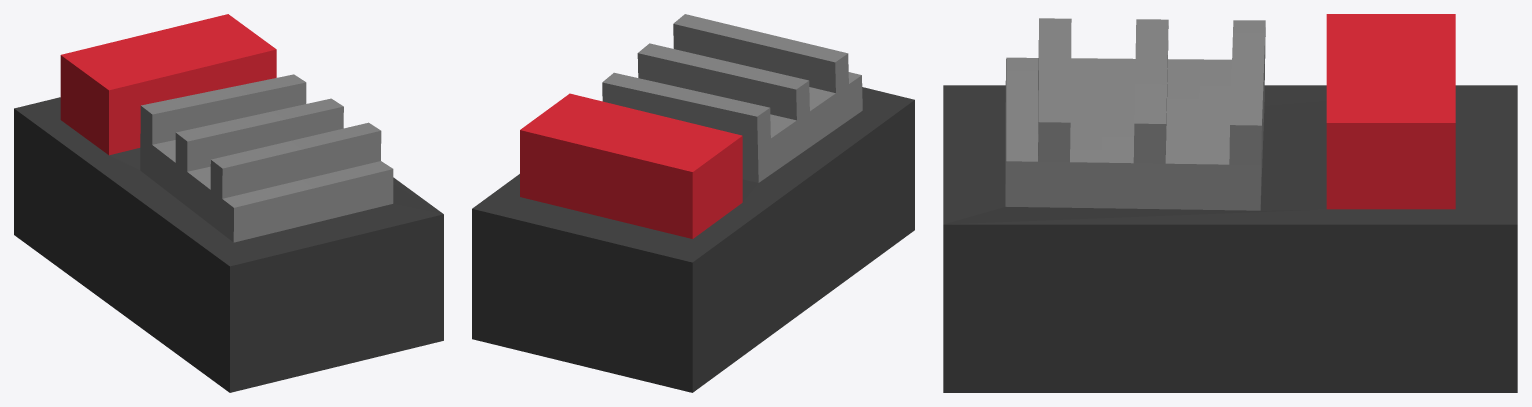
File: RadioModule.glb
3 renders of one model, left to right at view 1: azimuth 30°, elevation 25°; view 2: azimuth 150°, elevation 25°; view 3: azimuth 270°, elevation 25°, orthographic. The views are drawn at different scales.
Parts seen in each view (by area): view 1: Cube; view 2: Cube; view 3: Cube.
Part boxes in pixels (x1=…): Cube: x1=14, y1=14, x2=443, y2=392; Cube: x1=472, y1=14, x2=914, y2=392; Cube: x1=943, y1=14, x2=1517, y2=392.
Bounding box in the file's own units: 0.2093 × 0.179 × 0.3655.
